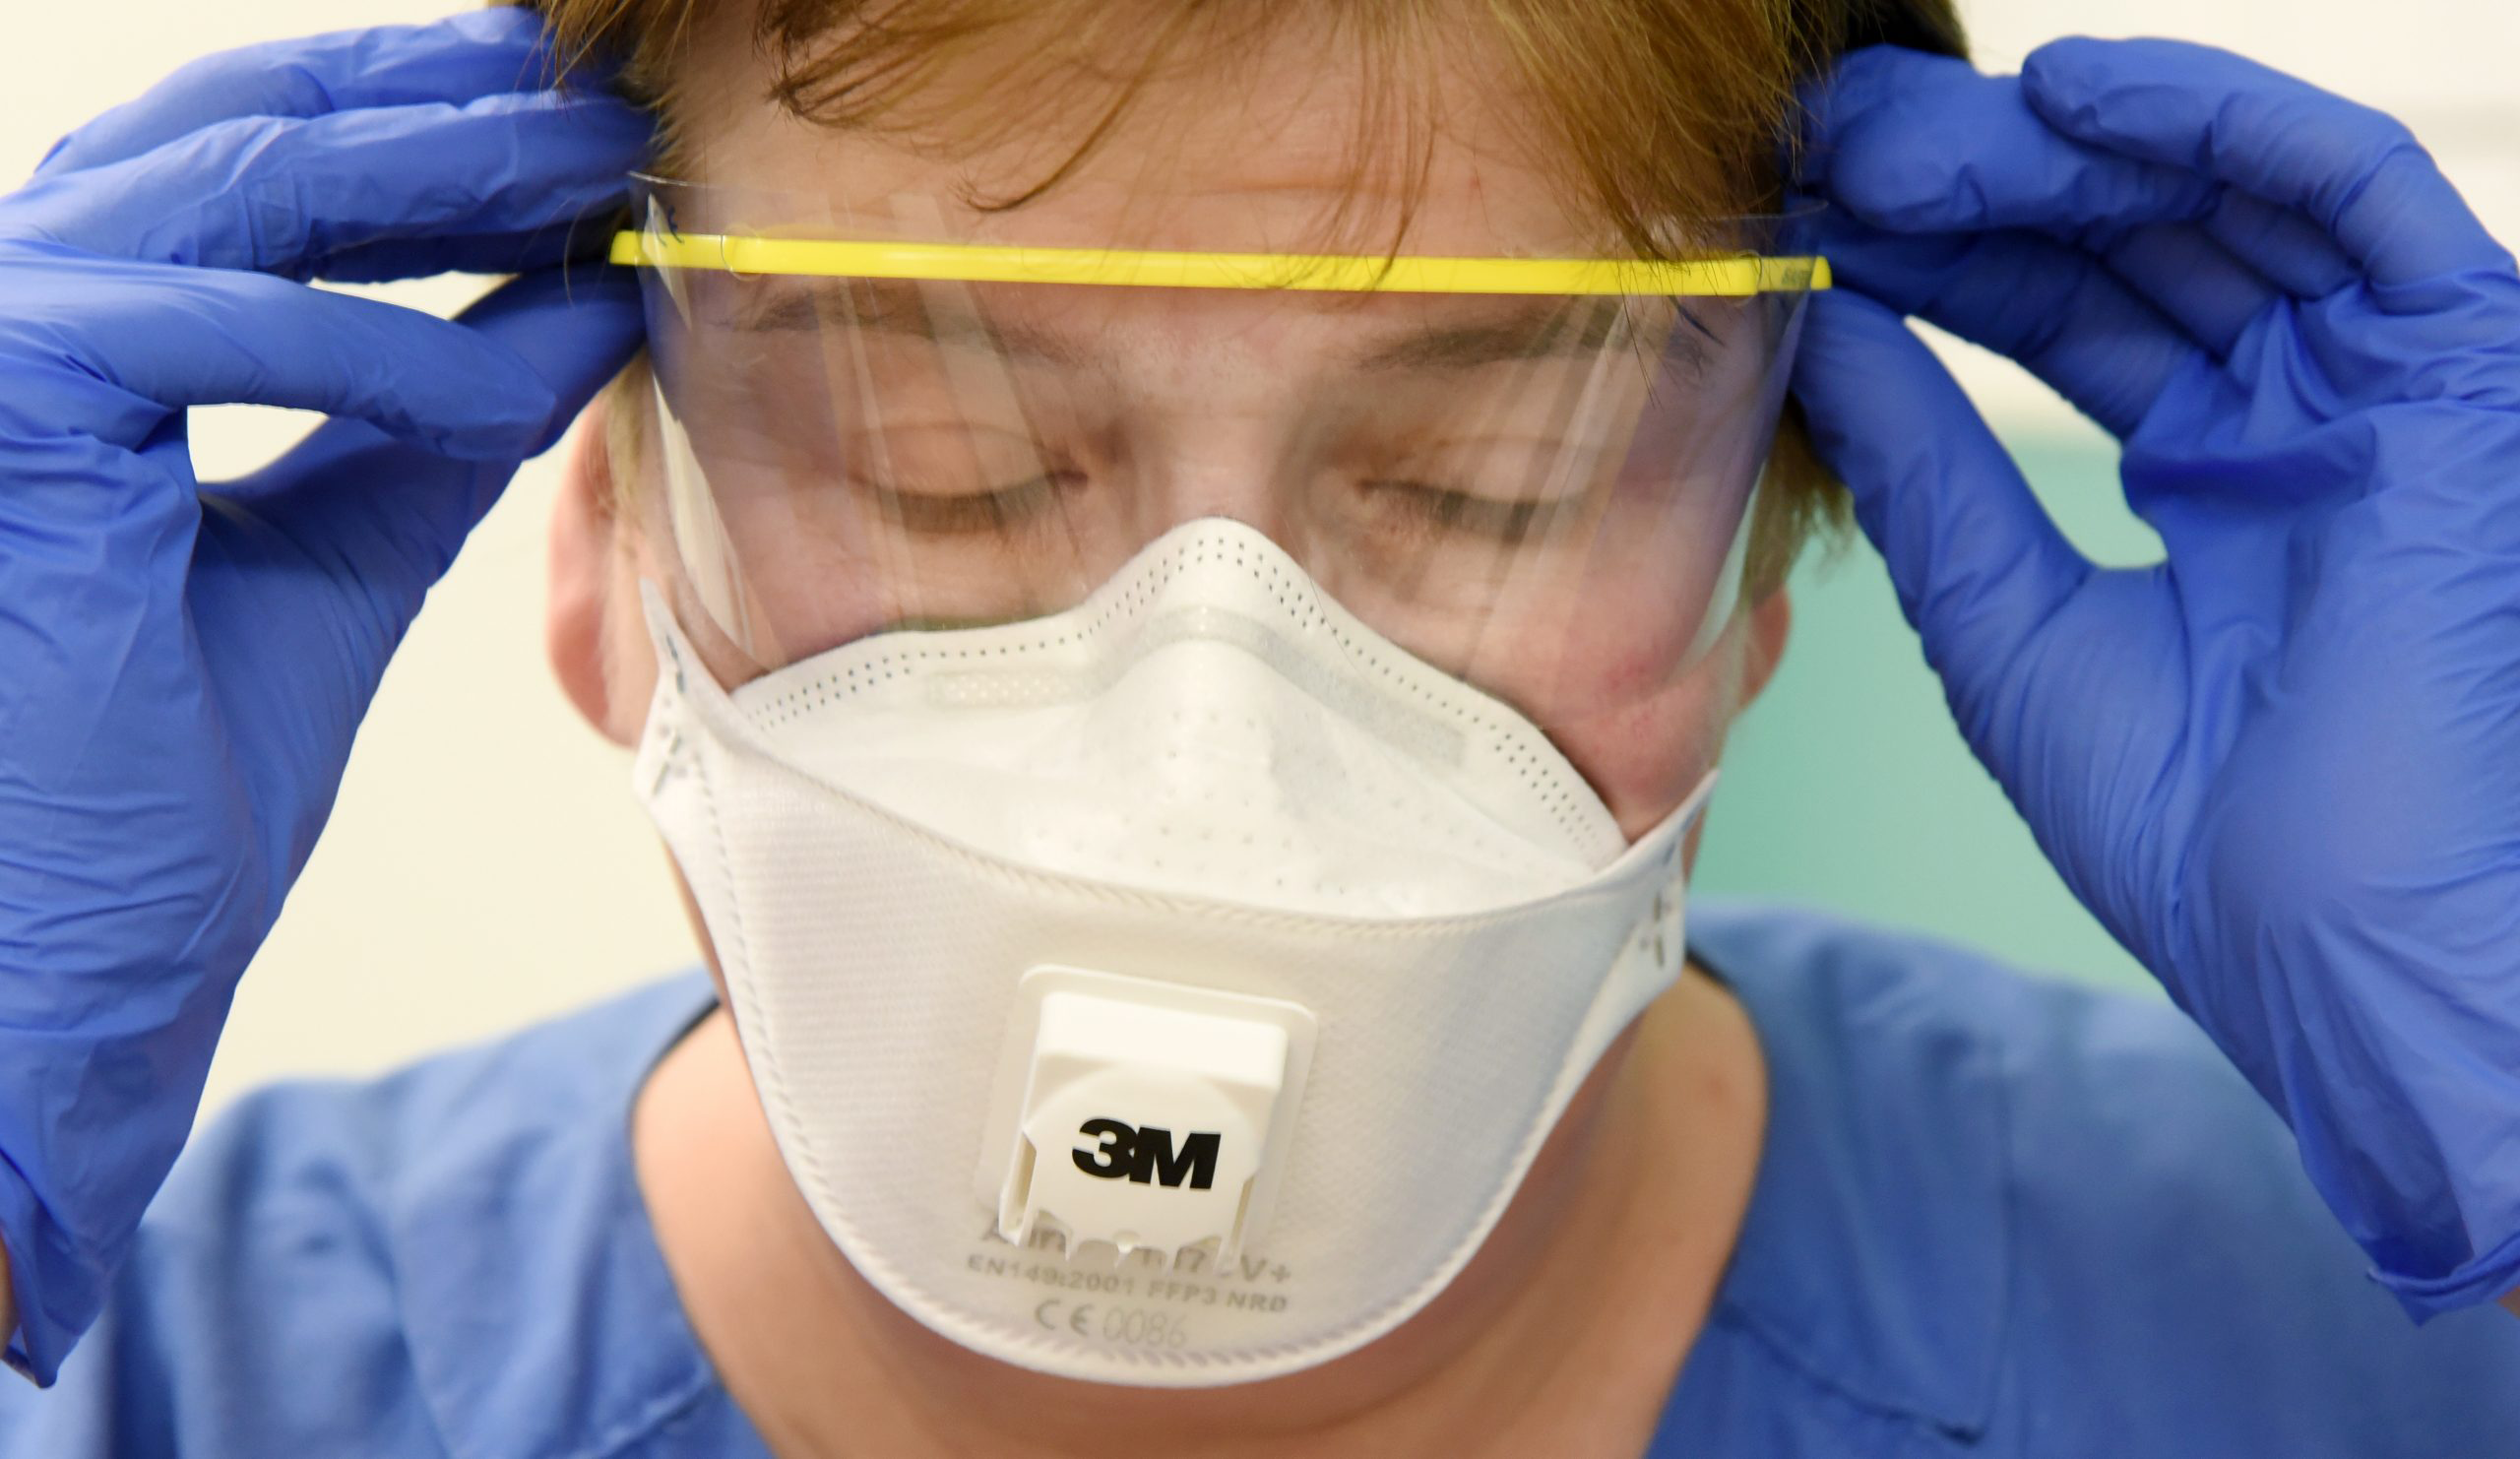Gloves: (1795, 36, 2514, 1338), (1, 12, 649, 1388)
Goggles: (623, 166, 1814, 724)
with_mask: (666, 316, 1723, 1401)
